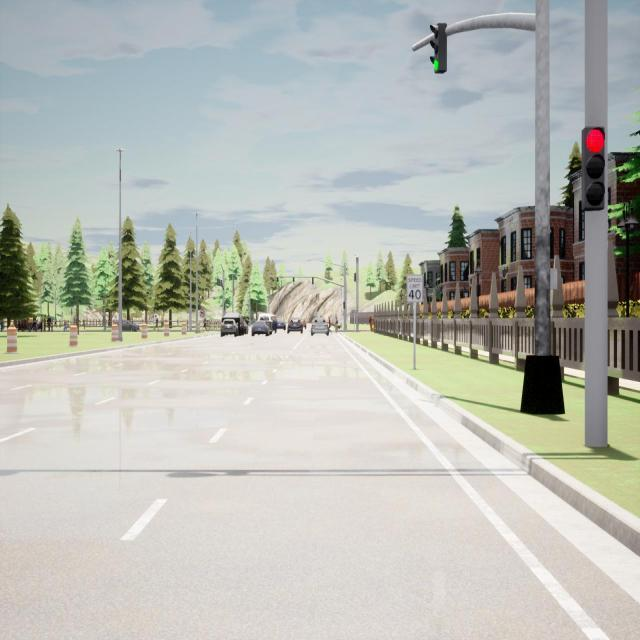Pedestrian: (153, 315, 159, 332), (38, 313, 43, 332), (369, 315, 374, 331), (32, 315, 37, 331), (203, 317, 208, 332), (47, 314, 51, 331), (328, 316, 332, 332), (28, 316, 32, 332), (63, 320, 68, 332), (43, 313, 46, 331), (0, 319, 4, 332), (335, 317, 338, 333)
Traffic_Signs: (407, 274, 423, 302), (200, 310, 205, 317), (352, 310, 358, 314)
Vehicle: (222, 312, 243, 337), (258, 314, 277, 334), (310, 318, 330, 336), (221, 319, 238, 337), (251, 321, 269, 336), (286, 318, 302, 334), (122, 320, 139, 331), (277, 321, 286, 331), (243, 319, 248, 334), (301, 319, 306, 330)
traffic_light: (581, 127, 605, 210), (430, 23, 447, 74), (276, 277, 279, 284), (354, 272, 356, 282), (343, 302, 345, 310), (292, 277, 294, 284), (312, 277, 314, 284), (224, 303, 226, 310), (219, 279, 220, 286), (217, 279, 218, 285), (221, 280, 222, 286)
